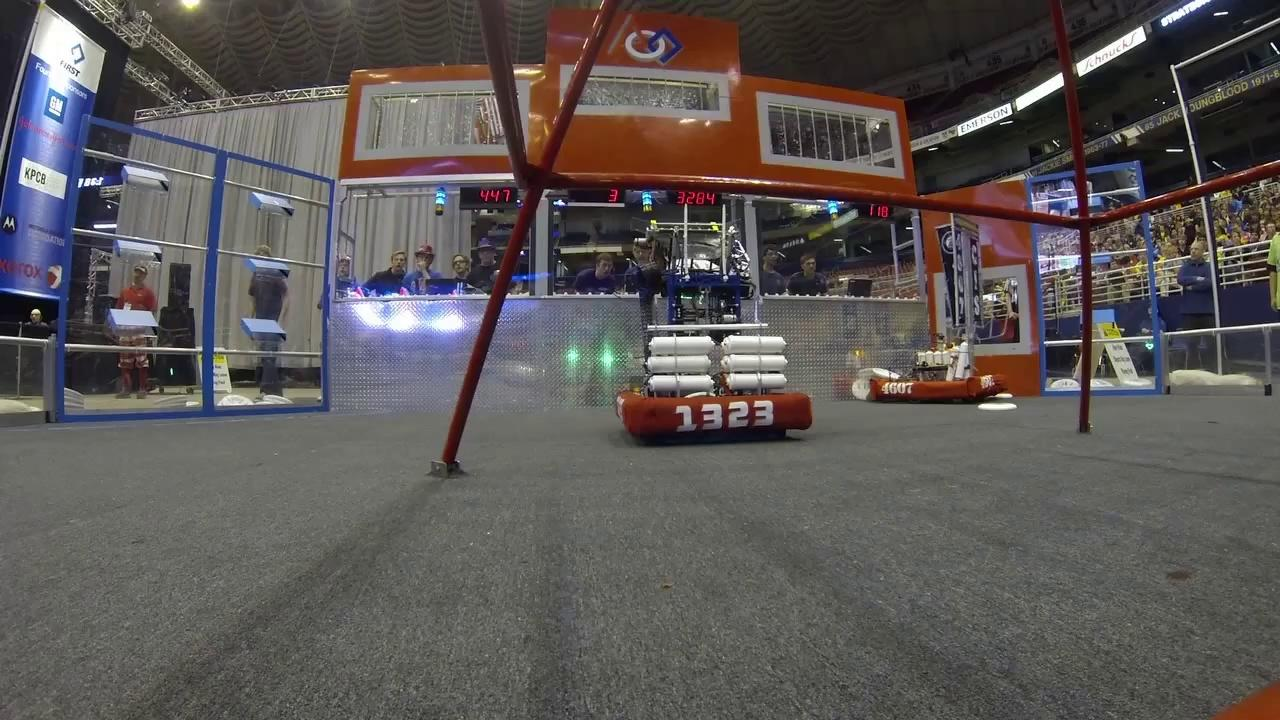robot: (604, 220, 821, 446), (865, 210, 1004, 406)
